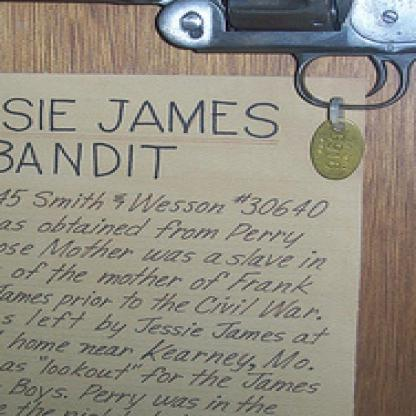gun: (0, 0, 414, 220)
